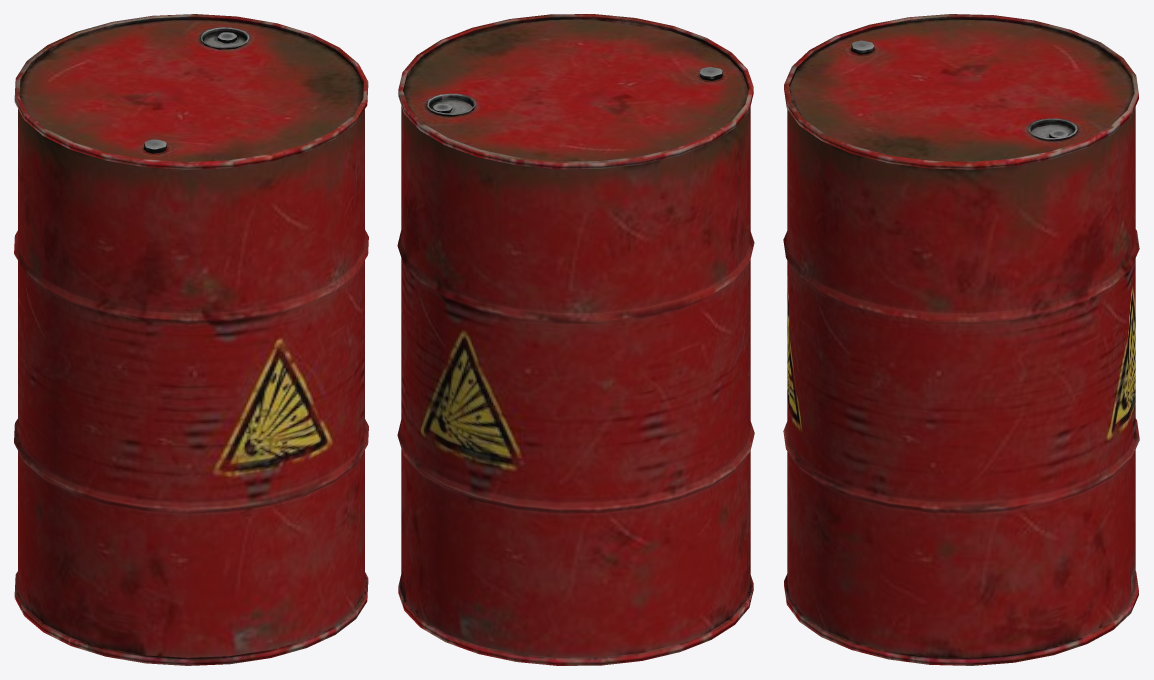
Rendered from Barrel_01.glb.
The picture shows the model from 3 angles, left to right: view 1: azimuth 30°, elevation 25°; view 2: azimuth 150°, elevation 25°; view 3: azimuth 270°, elevation 25°; orthographic projection.
Visible parts, largest first — view 1: Barrel_01; view 2: Barrel_01; view 3: Barrel_01.
Part boxes in pixels (<box>): Barrel_01: <box>14,14,368,665</box>; Barrel_01: <box>397,14,754,665</box>; Barrel_01: <box>783,14,1139,665</box>.
Bounding box in the file's own units: 0.5627 × 0.8789 × 0.5627.
Materials: 1 (1 with a texture image).
